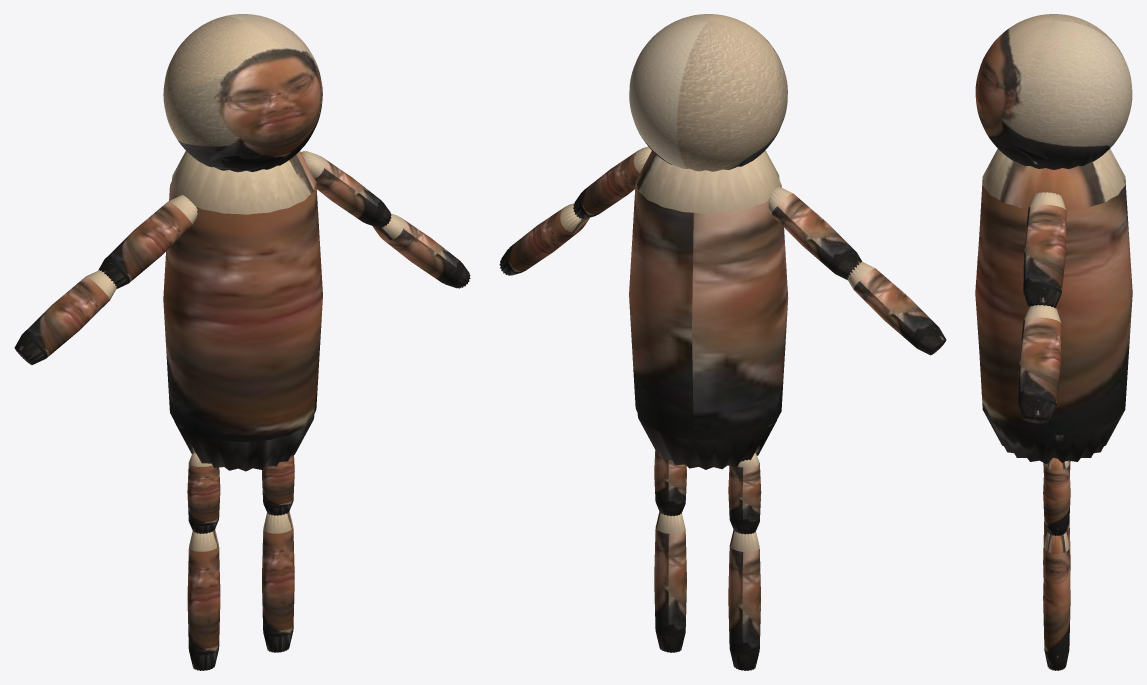
The model's file is Plzwork.fbx.
3 renders of one model, left to right at view 1: azimuth 30°, elevation 25°; view 2: azimuth 150°, elevation 25°; view 3: azimuth 270°, elevation 25°, orthographic.
Parts seen in each view (by area): view 1: pCylinder3; view 2: pCylinder3; view 3: pCylinder3.
Boxes of the visible parts, x1=… form: pCylinder3: x1=14, y1=14, x2=470, y2=670; pCylinder3: x1=499, y1=14, x2=946, y2=670; pCylinder3: x1=975, y1=14, x2=1132, y2=670.
Size of the model in its own units: 6.35 by 8.69 by 1.98.
1 material, 1 textured.
